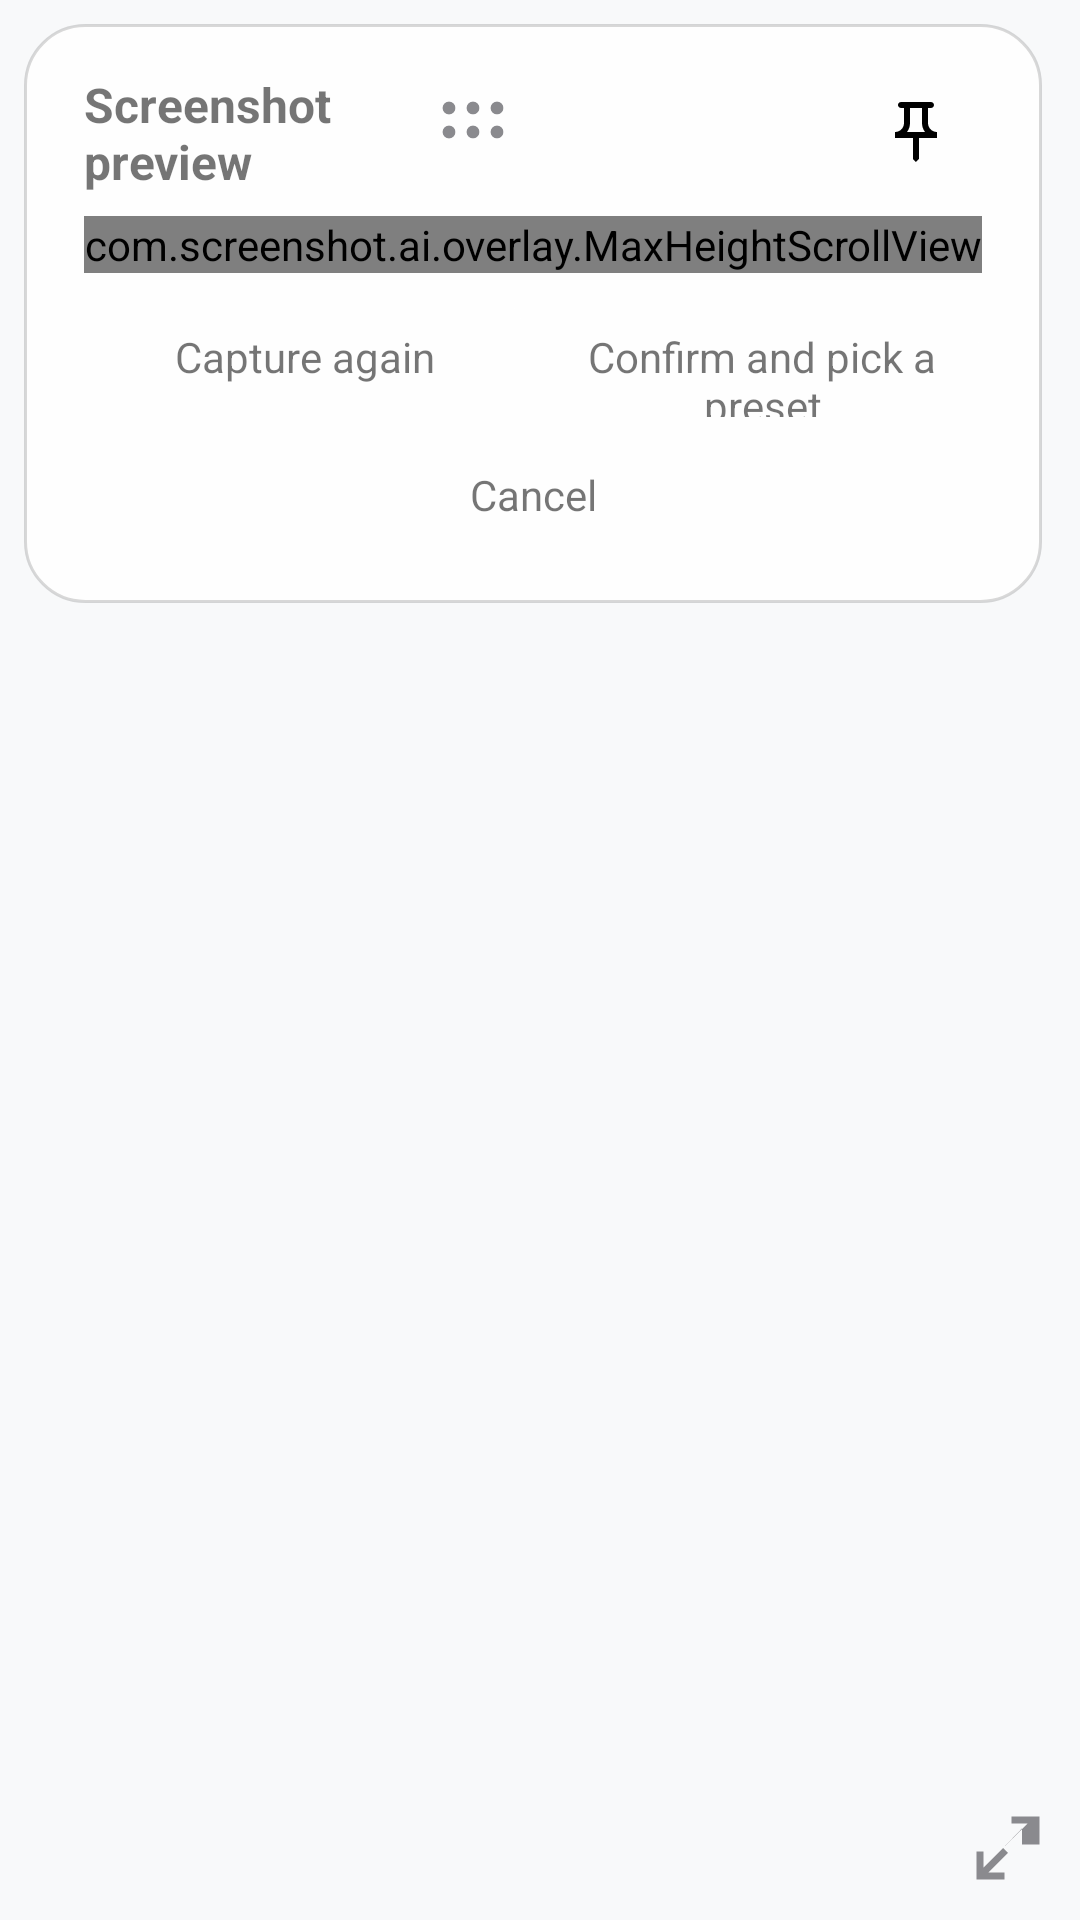

Point at icon controls on the screen. Image size 1080px x 1920px, points as (x,y).
Drag window: (473,120)
Resize window: (1008,1848)
